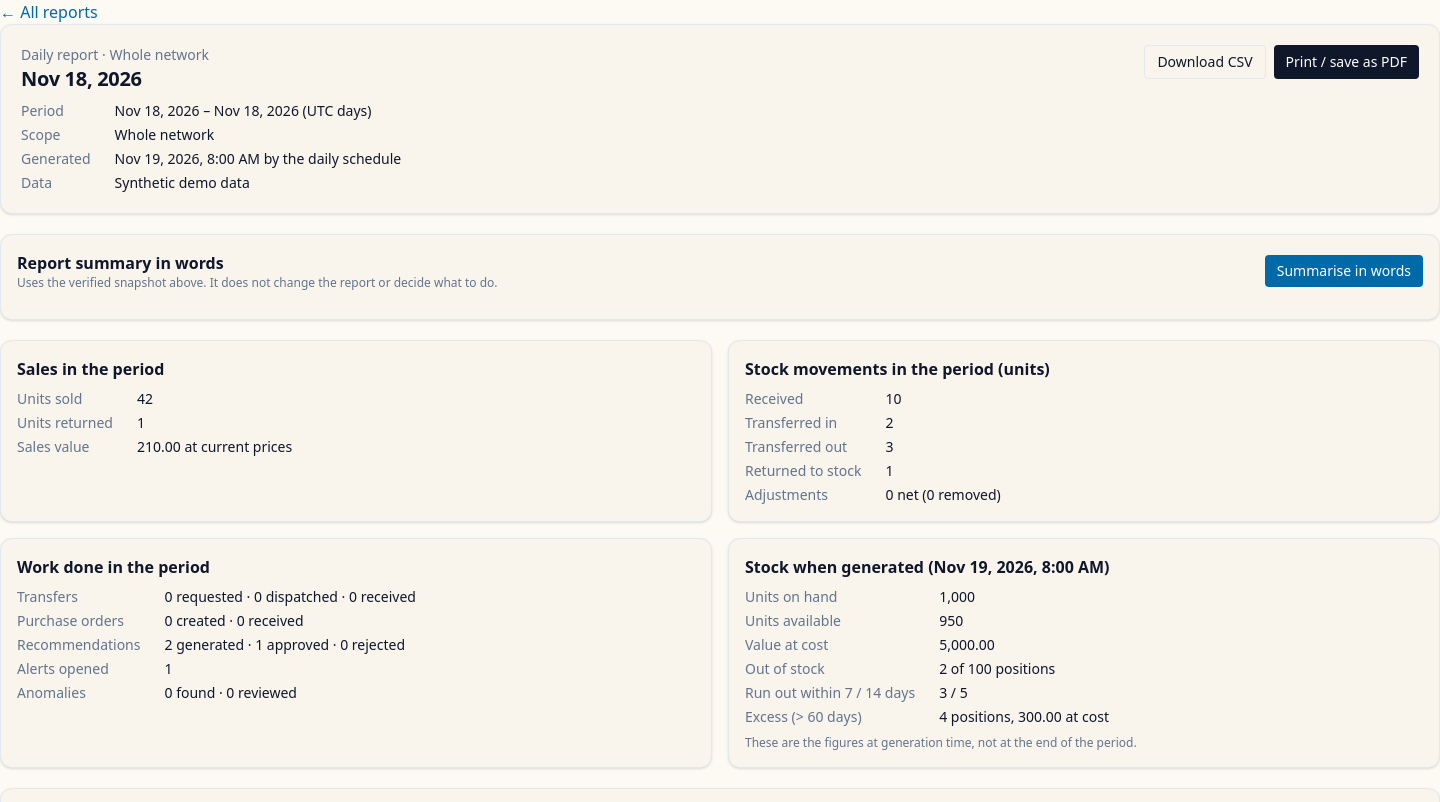
Scenario: report summary in words › loads only after the button is pressed and labels the provider
The width and height of the screenshot is (1440, 802).
Click the button "Summarise in words" at (1344, 271), box [1265,255,1423,287]
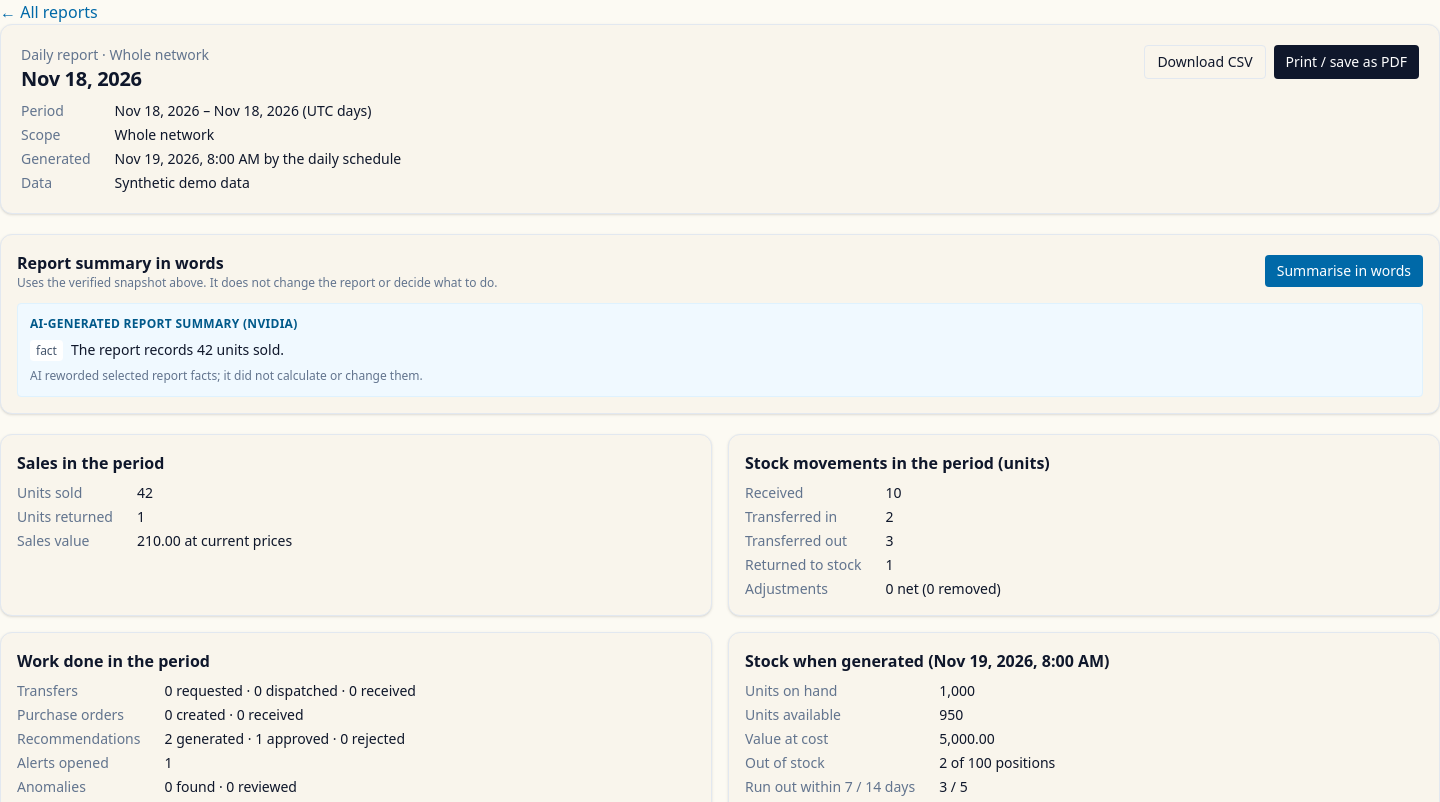
Expected: the text "AI-generated report summary (NVIDIA)" is shown, [30,315,298,332]
Expected: the text "records 42 units sold" is shown, [71,340,284,359]
